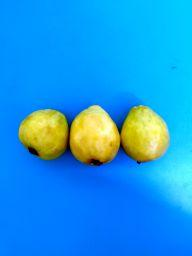guava: (120, 103, 173, 164), (72, 103, 121, 167), (16, 107, 71, 162)
